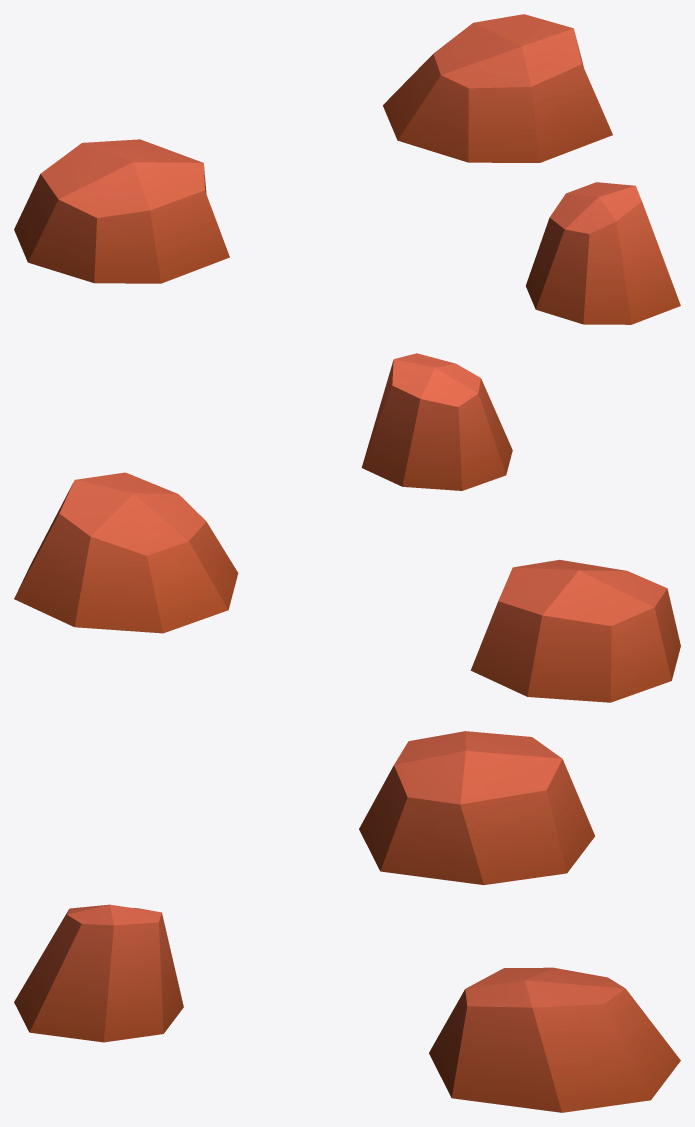
Rendered from fbx-dirt.fbx.
The picture shows the model from 3 angles, top to bottom: view 1: azimuth 30°, elevation 25°; view 2: azimuth 150°, elevation 25°; view 3: azimuth 270°, elevation 25°; orthographic projection. The views are drawn at different scales.
Visible parts, largest first — view 1: dirt-mesh; view 2: dirt-mesh; view 3: dirt-mesh.
Boxes of the visible parts, <box> form: dirt-mesh: <box>14,14,680,324</box>; dirt-mesh: <box>14,353,680,702</box>; dirt-mesh: <box>14,731,680,1112</box>.
Size of the model in its own units: 2.35 by 0.3519 by 2.05.
